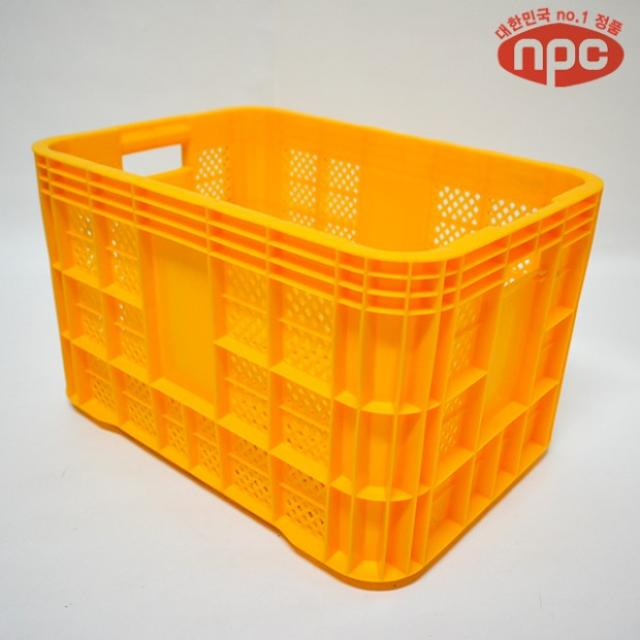basket: (0, 64, 608, 619)
